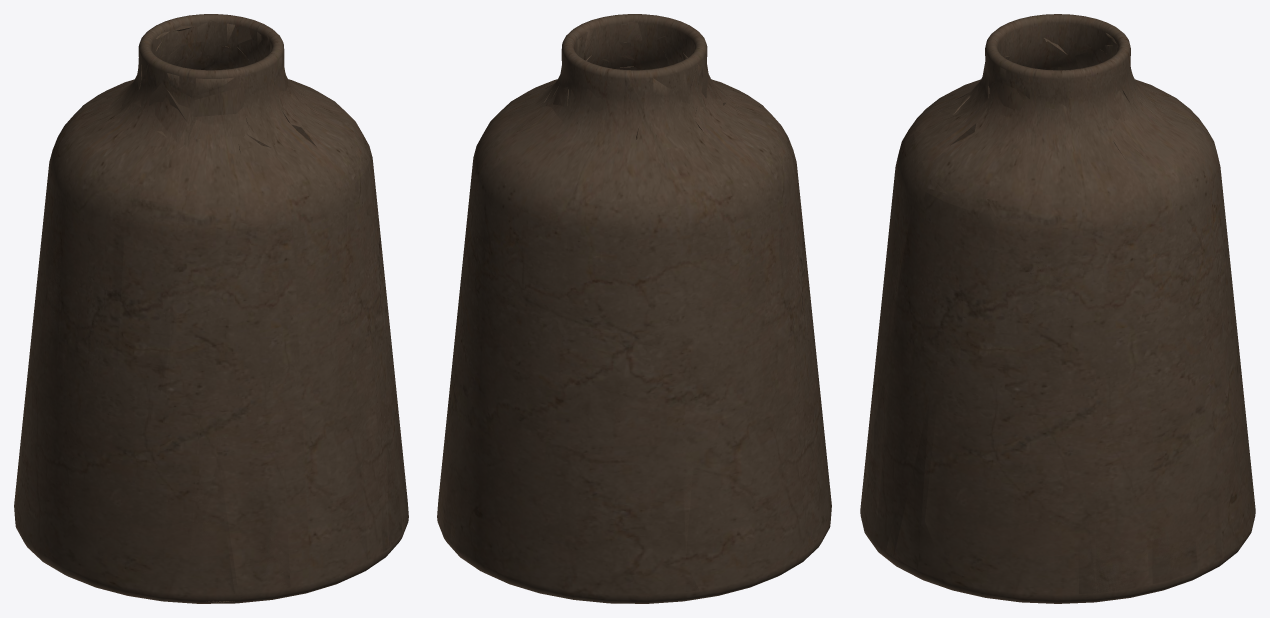
The model's file is UnDestroyedVase4.glb.
The picture shows the model from 3 angles, left to right: view 1: azimuth 30°, elevation 25°; view 2: azimuth 150°, elevation 25°; view 3: azimuth 270°, elevation 25°; orthographic projection.
Visible parts, largest first — view 1: SM_MCVase_cell; view 2: SM_MCVase_cell; view 3: SM_MCVase_cell.
Part boxes in pixels (box(x1,y1,x2,y2)): SM_MCVase_cell: box(14, 14, 408, 603); SM_MCVase_cell: box(437, 14, 831, 603); SM_MCVase_cell: box(860, 14, 1255, 603).
Bounding box in the file's own units: 0.224 × 0.3012 × 0.224.
Materials: 1 (1 with a texture image).
